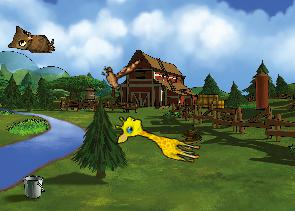eagle: (94, 47, 143, 103)
giraffe: (111, 112, 205, 165)
owl: (8, 25, 55, 53)
